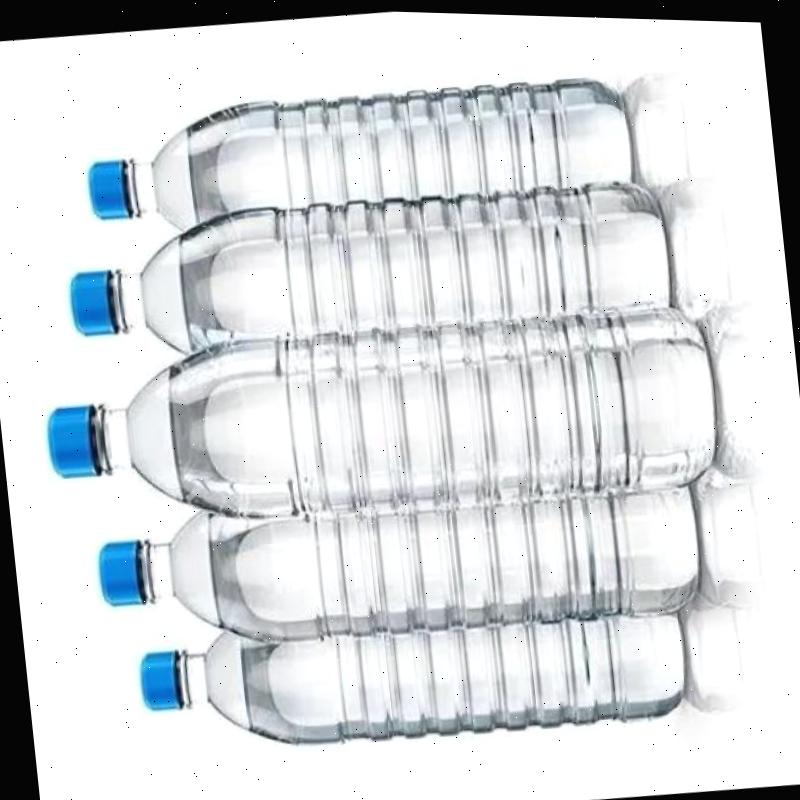botella: (38, 278, 722, 554), (59, 157, 679, 377), (92, 451, 705, 668), (80, 54, 638, 255), (133, 576, 693, 770)
